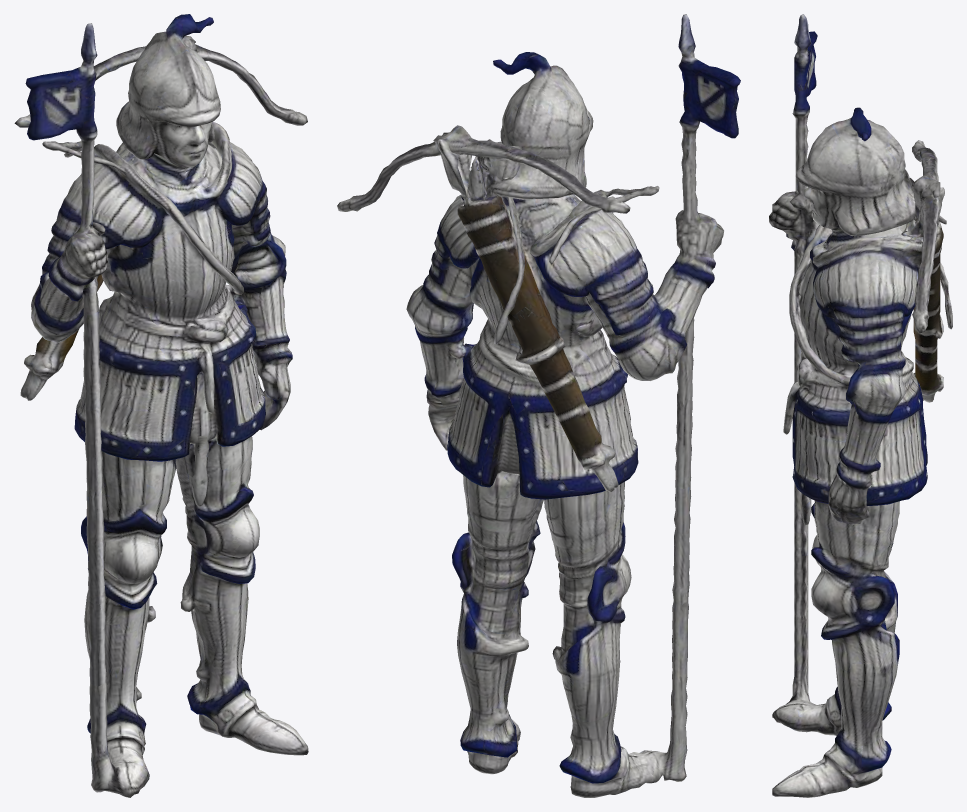
The model's file is Human_Militia.glb.
The picture shows the model from 3 angles, left to right: view 1: azimuth 30°, elevation 25°; view 2: azimuth 150°, elevation 25°; view 3: azimuth 270°, elevation 25°; orthographic projection. The views are drawn at different scales.
Bounding box in the file's own units: 0.8884 × 1.91 × 0.4579.
1 material, 1 textured.
